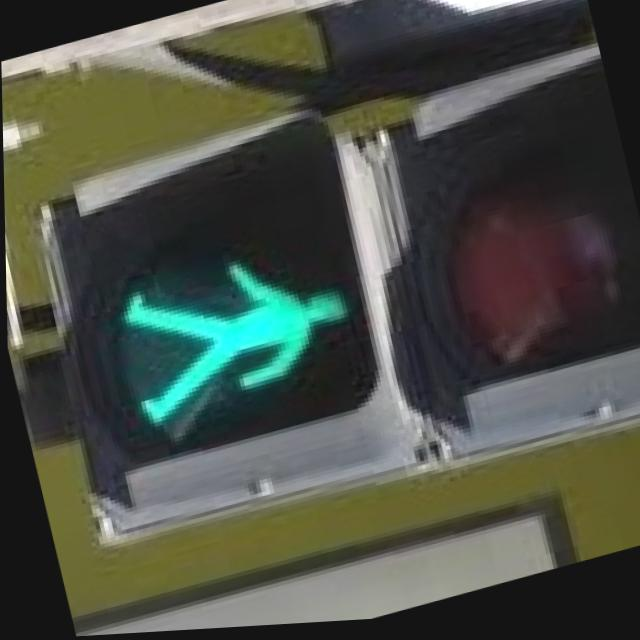green_light: (93, 217, 381, 448)
